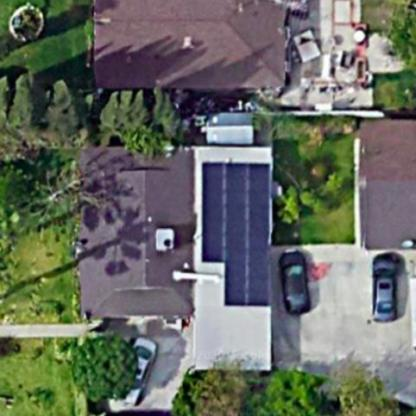car: (116, 330, 160, 411), (370, 250, 407, 329), (278, 247, 318, 315)
solar_panel: (195, 151, 278, 316)
